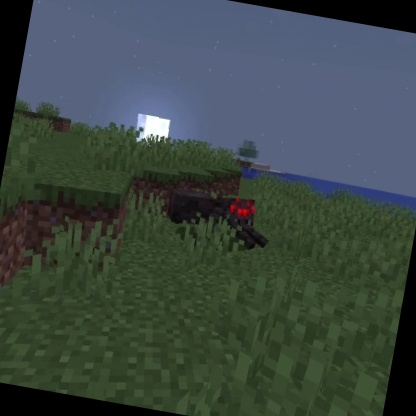spider: (161, 180, 279, 255)
